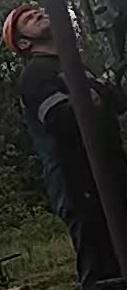helmet: (2, 2, 45, 65)
vest: (14, 46, 118, 184)
